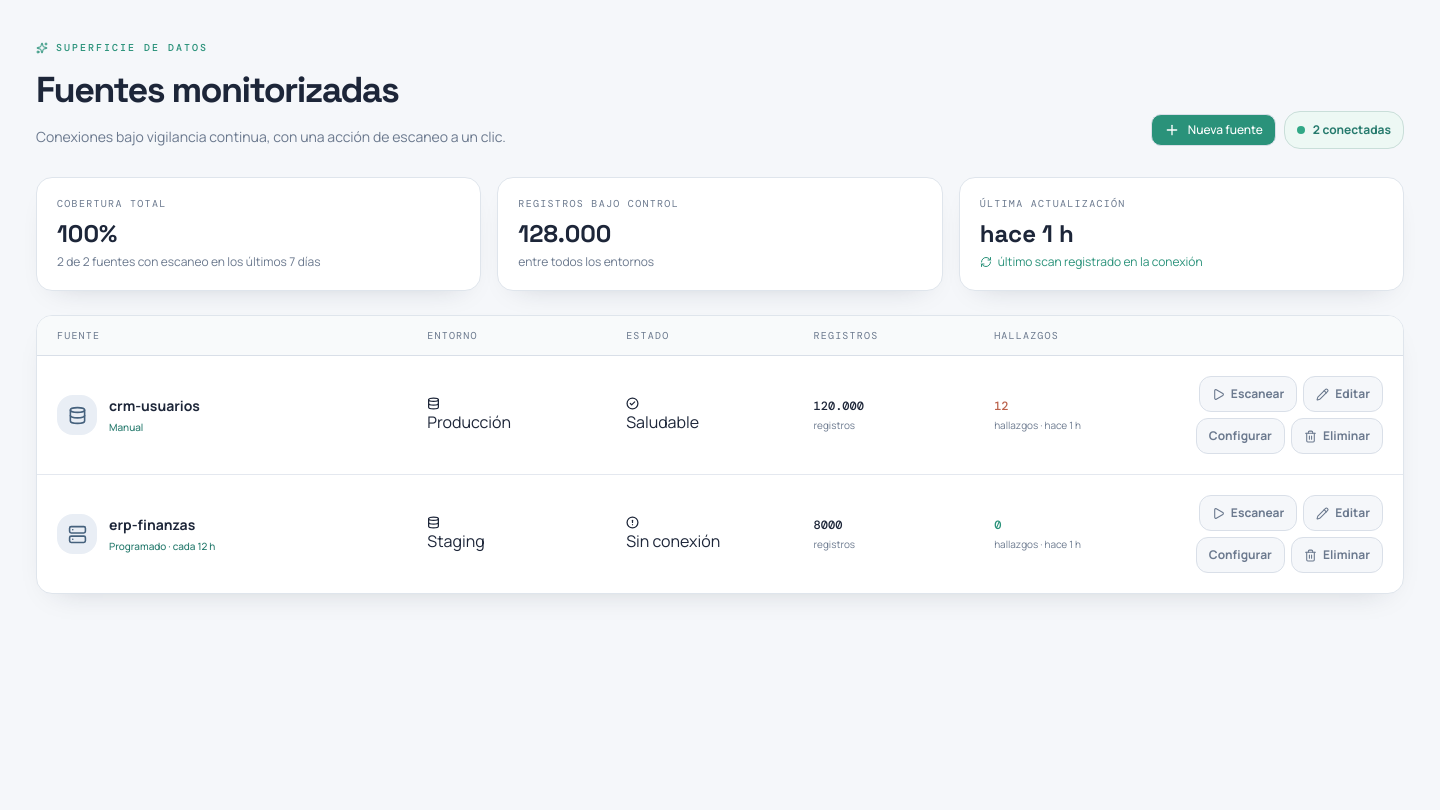
SourcesPage — rol y diálogo de programación (M10.6) › 5. el admin ve «Configurar» y abre el diálogo con la programación de esa fuente
The image size is (1440, 810).
Click the button "Configurar" in the row of "Sin conexión" at (1240,555), box [1196,537,1285,573]
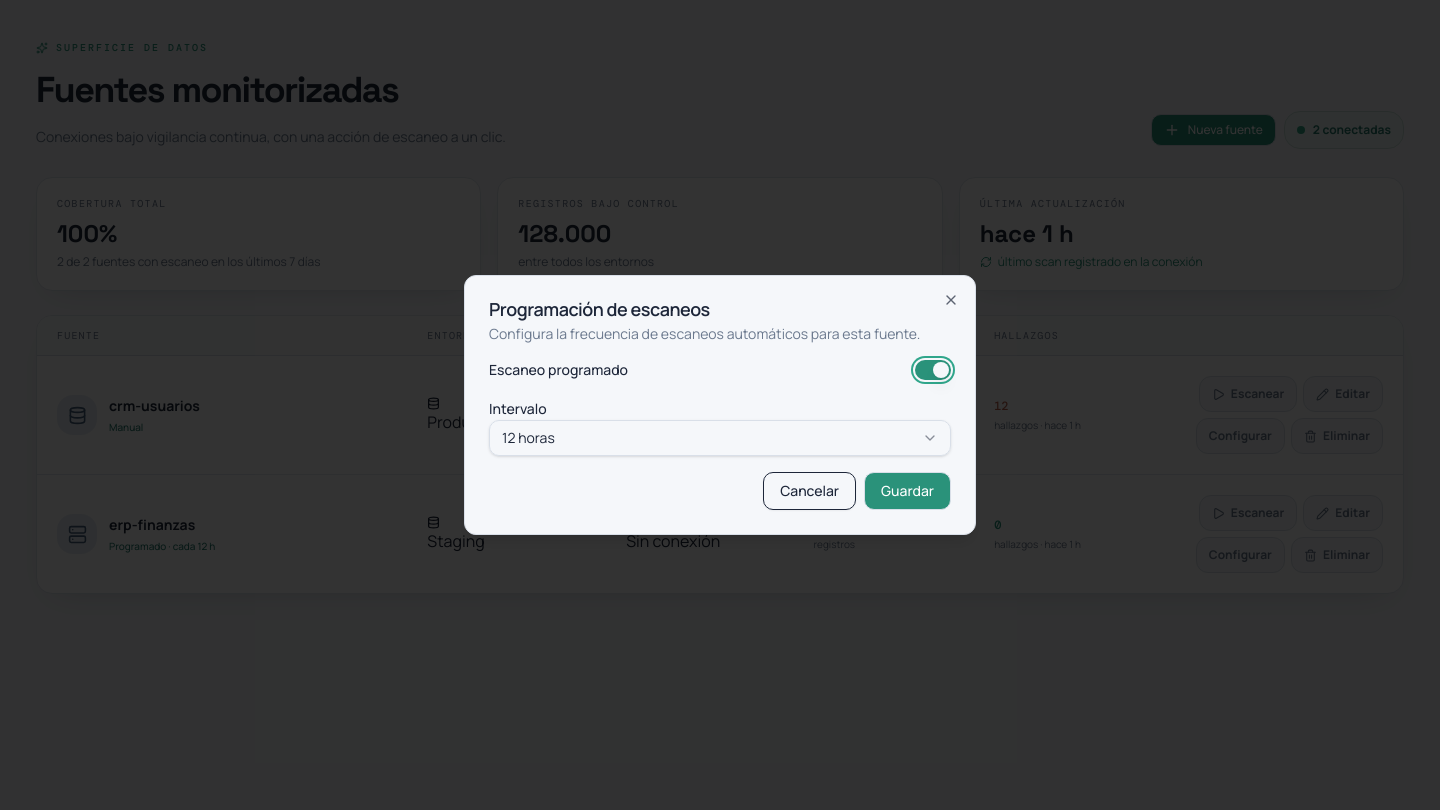
Expected: the heading "Programación de escaneos" is shown, [489,297,710,321]
Expected: the switch with test id "switch-enabled" is checked, [915,360,951,380]
Expected: the dropdown with test id "select-interval" reads "12 horas", [489,420,951,456]
